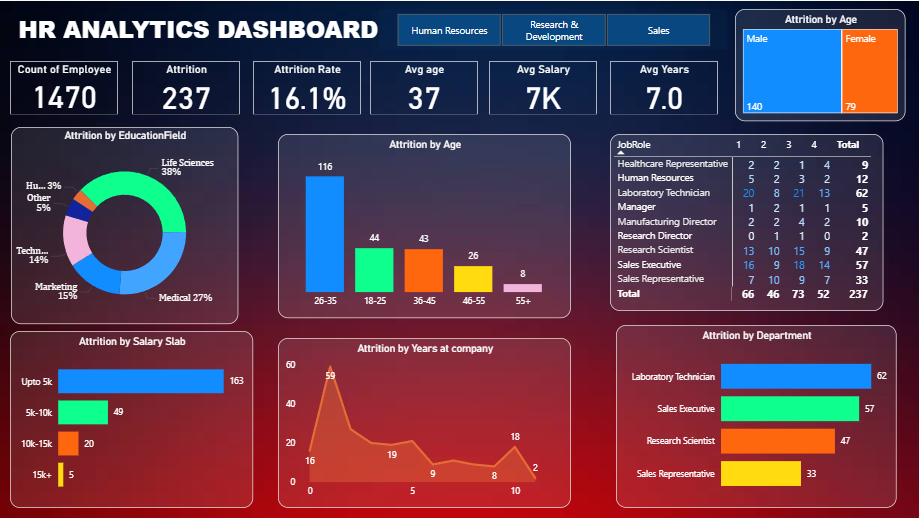

What the dashboard file says about the page in this screenshot:
{"tool":"powerbi","page":{"name":"Page 1","canvas":[1280,720],"ordinal":0},"visuals":[{"type":"card","title":"Count of Employee","fields":{"Values":["CountNonNull(HR_Analytics.EmpID)"]},"box":[15.3,83.4,150.1,73.7],"z":0},{"type":"card","title":"Attrition","fields":{"Values":["Sum(HR_Analytics.AttritionCount)"]},"box":[184.3,82.9,150,74.3],"z":1000},{"type":"card","title":"Attrition Rate","fields":{"Values":["HR_Analytics.AttritionRate"]},"box":[352.9,82.9,150,74.3],"z":2000},{"type":"card","title":"Avg age","fields":{"Values":["Avg(HR_Analytics.Age)"]},"box":[515.7,82.9,150,74.3],"z":3000},{"type":"card","title":"Avg Salary","fields":{"Values":["Avg(HR_Analytics.MonthlyIncome)"]},"box":[681.4,82.9,150,74.3],"z":4000},{"type":"card","title":"Avg Years","fields":{"Values":["Avg(HR_Analytics.YearsAtCompany)"]},"box":[848.6,82.9,150,74.3],"z":5000},{"type":"donutChart","title":"Attrition by EducationField","fields":{"Y":["Sum(HR_Analytics.AttritionCount)"],"Category":["HR_Analytics.EducationField"]},"box":[17,175.7,315.7,274.3],"z":6000},{"type":"columnChart","title":"Attrition by Age","fields":{"Category":["HR_Analytics.AgeGroup"],"Y":["Sum(HR_Analytics.AttritionCount)"]},"box":[387.1,184.3,407.1,255.7],"z":7000},{"type":"pivotTable","fields":{"Rows":["HR_Analytics.JobRole"],"Columns":["HR_Analytics.JobSatisfaction"],"Values":["Sum(HR_Analytics.AttritionCount)"]},"box":[848.6,184.3,380,245.7],"z":8000},{"type":"areaChart","title":"Attrition by Years at company","fields":{"Category":["HR_Analytics.YearsAtCompany"],"Y":["Sum(HR_Analytics.AttritionCount)"]},"box":[387.8,468.4,407.3,236.3],"z":9000},{"type":"clusteredBarChart","title":"Attrition by Department","fields":{"Category":["HR_Analytics.JobRole"],"Y":["Sum(HR_Analytics.AttritionCount)"]},"box":[857.1,450,390,254.3],"z":10000},{"type":"clusteredBarChart","title":"Attrition by Salary Slab","fields":{"Category":["HR_Analytics.SalarySlab"],"Y":["Sum(HR_Analytics.AttritionCount)"]},"box":[15.3,458.7,337.8,246],"z":11000},{"type":"treemap","title":"Attrition by Age","fields":{"Group":["HR_Analytics.Gender"],"Values":["Sum(HR_Analytics.AttritionCount)"]},"box":[1022.9,11.4,237.1,155.7],"z":12000},{"type":"slicer","fields":{"Values":["HR_Analytics.Department"]},"box":[528.6,11.4,484.3,55.7],"z":13000},{"type":"textbox","box":[22.9,11.4,528.6,57.1],"z":14000}]}

Visuals, with their boxes in screenshot pixels (x1, y1, x2, y2), scaled from the page's 1280x720 canvas onto the 919x518 screenshot:
"Count of Employee" card: [11,60,119,113]
"Attrition" card: [132,60,240,113]
"Attrition Rate" card: [253,60,361,113]
"Avg age" card: [370,60,478,113]
"Avg Salary" card: [489,60,597,113]
"Avg Years" card: [609,60,717,113]
"Attrition by EducationField" donutChart: [12,126,239,324]
"Attrition by Age" columnChart: [278,133,570,317]
pivotTable - HR_Analytics.JobRole x HR_Analytics.JobSatisfaction: [609,133,882,309]
"Attrition by Years at company" areaChart: [278,337,571,507]
"Attrition by Department" clusteredBarChart: [615,324,895,507]
"Attrition by Salary Slab" clusteredBarChart: [11,330,254,507]
"Attrition by Age" treemap: [734,8,905,120]
slicer - HR_Analytics.Department: [380,8,727,48]
textbox: [16,8,396,49]
